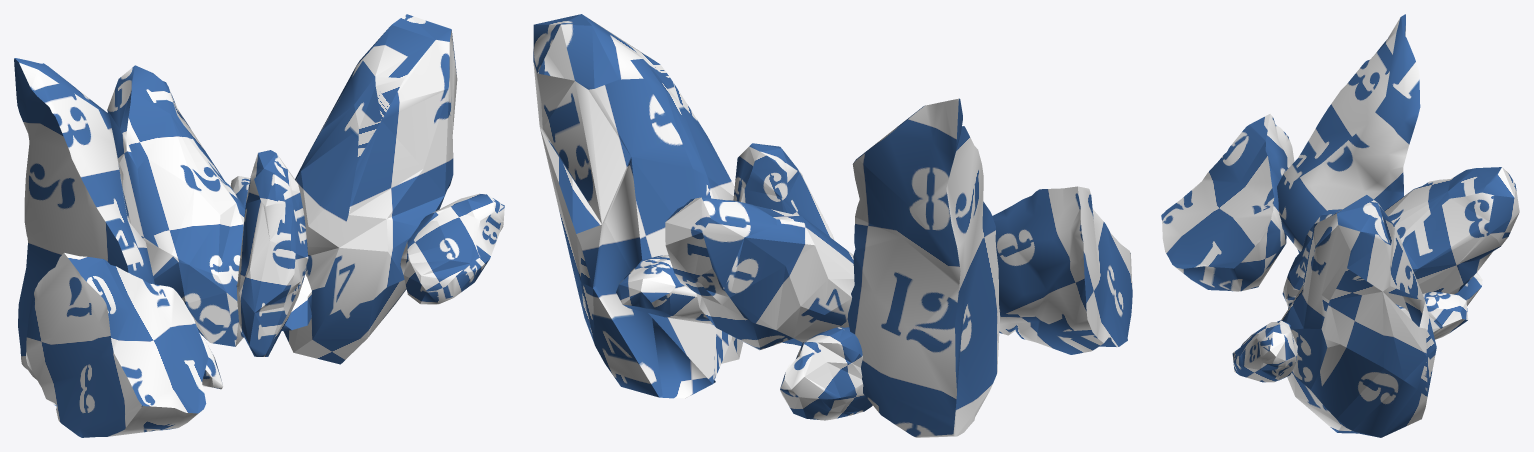
The model's file is Rengoku_Spl_GroundRock2.fbx.
3 renders of one model, left to right at view 1: azimuth 30°, elevation 25°; view 2: azimuth 150°, elevation 25°; view 3: azimuth 270°, elevation 25°, orthographic. The views are drawn at different scales.
Parts seen in each view (by area): view 1: SM_d_e_P0012_V00_C00_SplRgk_GroundRock_02; view 2: SM_d_e_P0012_V00_C00_SplRgk_GroundRock_02; view 3: SM_d_e_P0012_V00_C00_SplRgk_GroundRock_02.
Boxes of the visible parts, x1,y1,x2,y2 form: SM_d_e_P0012_V00_C00_SplRgk_GroundRock_02: (14,14,504,437); SM_d_e_P0012_V00_C00_SplRgk_GroundRock_02: (533,14,1132,437); SM_d_e_P0012_V00_C00_SplRgk_GroundRock_02: (1161,14,1519,437).
Size of the model in its own units: 71.22 by 50.69 by 55.15.
